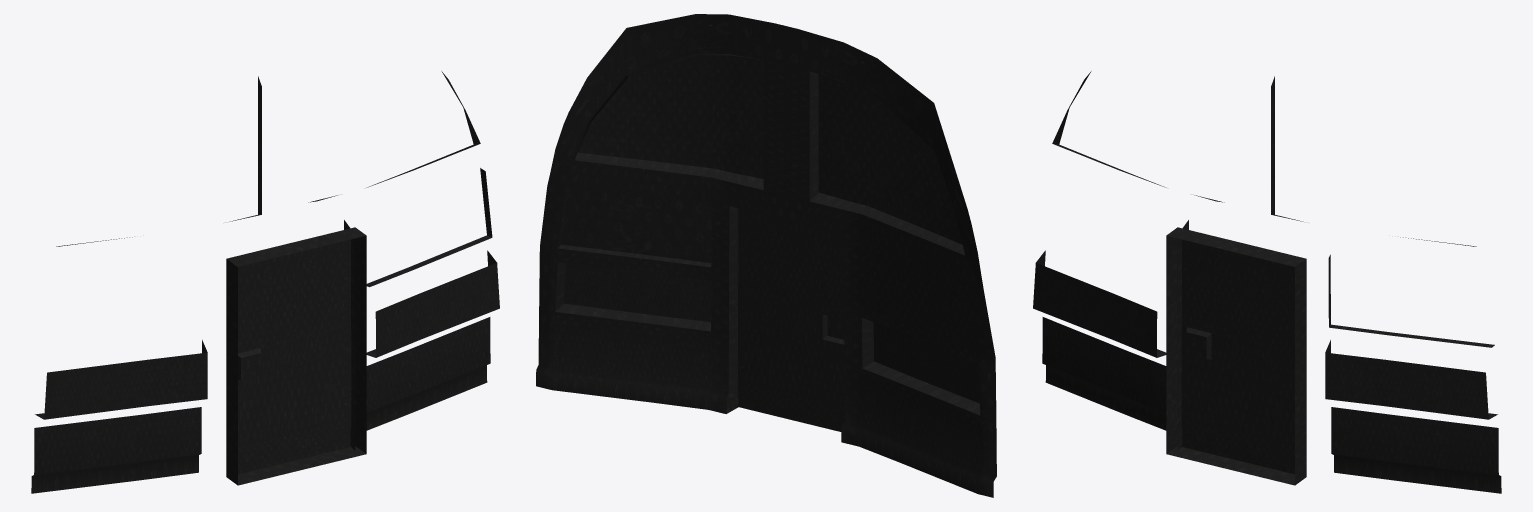
File: CockpitBack.obj
The picture shows the model from 3 angles, left to right: view 1: azimuth 30°, elevation 25°; view 2: azimuth 150°, elevation 25°; view 3: azimuth 330°, elevation 25°; orthographic projection. The views are drawn at different scales.
Parts seen in each view (by area): view 1: BackCockpitPanelExposed CockpitBack, CockpitBack cockpitDoor; view 2: BackCockpitPanelExposed CockpitBack, CockpitBack cockpitDoor; view 3: BackCockpitPanelExposed CockpitBack, CockpitBack cockpitDoor.
Part boxes in pixels (left/top/right/bottom): BackCockpitPanelExposed CockpitBack: left=31, top=71, right=499, bottom=493; CockpitBack cockpitDoor: left=226, top=227, right=366, bottom=485; BackCockpitPanelExposed CockpitBack: left=536, top=14, right=996, bottom=497; CockpitBack cockpitDoor: left=738, top=208, right=844, bottom=431; BackCockpitPanelExposed CockpitBack: left=1033, top=71, right=1501, bottom=493; CockpitBack cockpitDoor: left=1166, top=227, right=1306, bottom=485.
Bounding box in the file's own units: 1414 × 1181 × 215.
